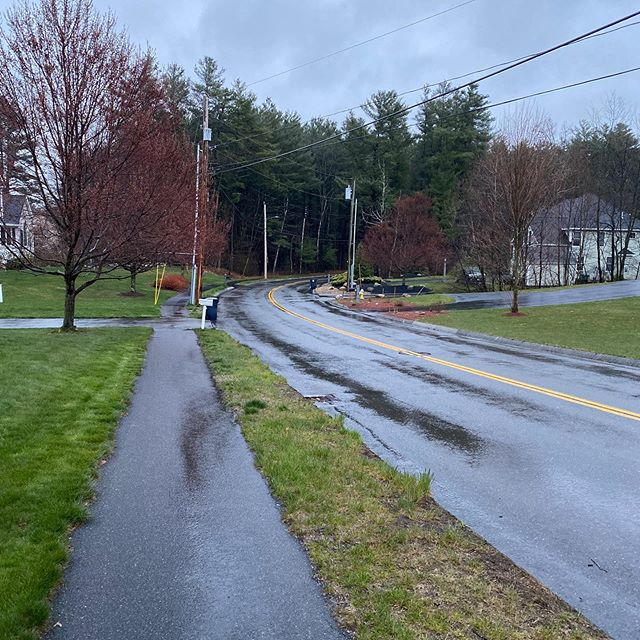building: (527, 190, 640, 290)
sky: (197, 1, 640, 100)
street: (228, 270, 640, 640)
tree: (1, 1, 207, 310)
vegetation: (169, 83, 596, 269)
